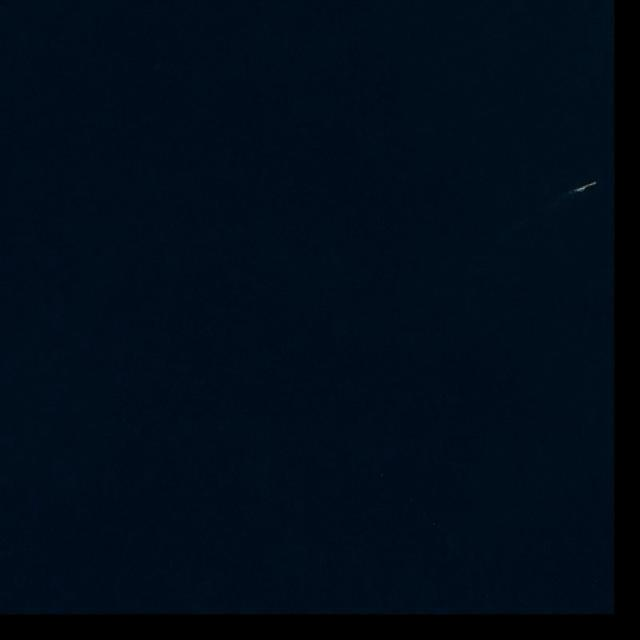ship: (584, 182, 598, 190)
